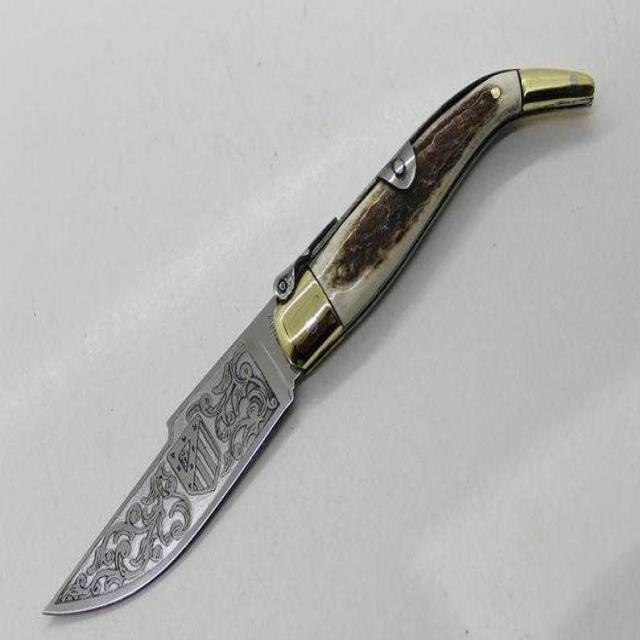knife: (40, 63, 603, 624)
